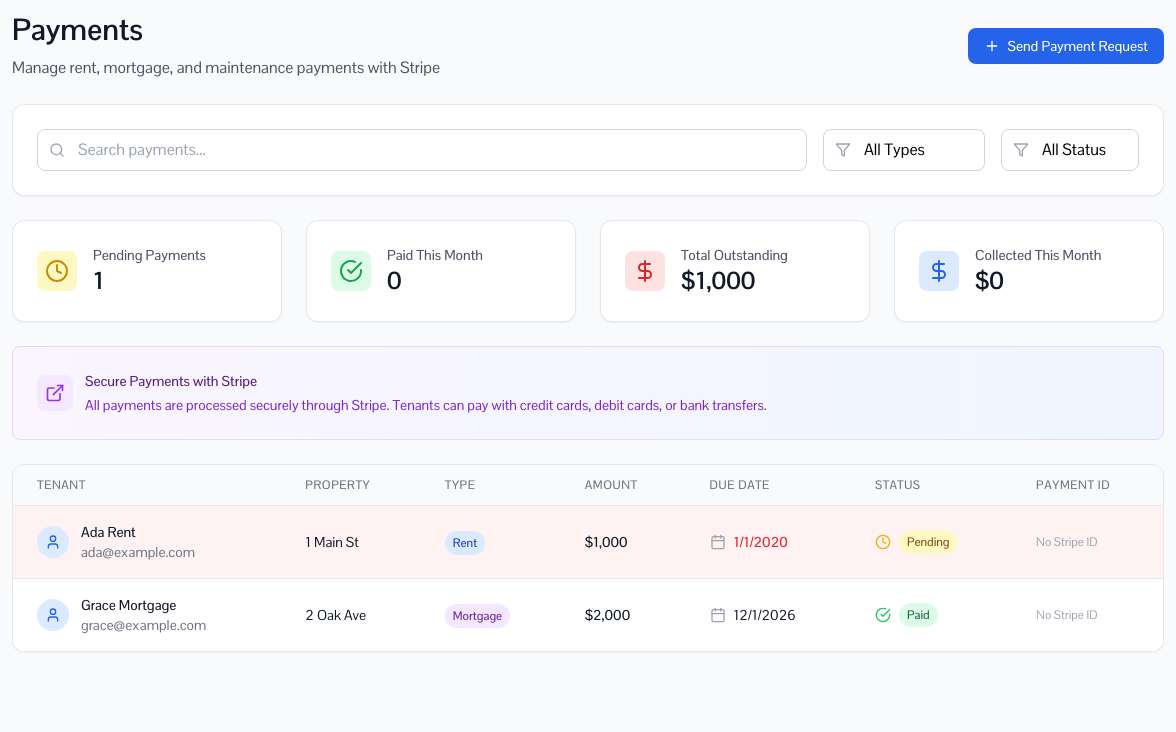
Test: live dropdowns › filters payments immediately, including the derived overdue status
Later steps or results of the test are not shown.
Expected: the text "Ada Rent" is shown, [81,523,136,541]
Expected: the text "Grace Mortgage" is shown, [81,596,176,614]
Select "Mortgage" in the dropdown named "Filter payments by type": (904, 150) [823,129,985,171]
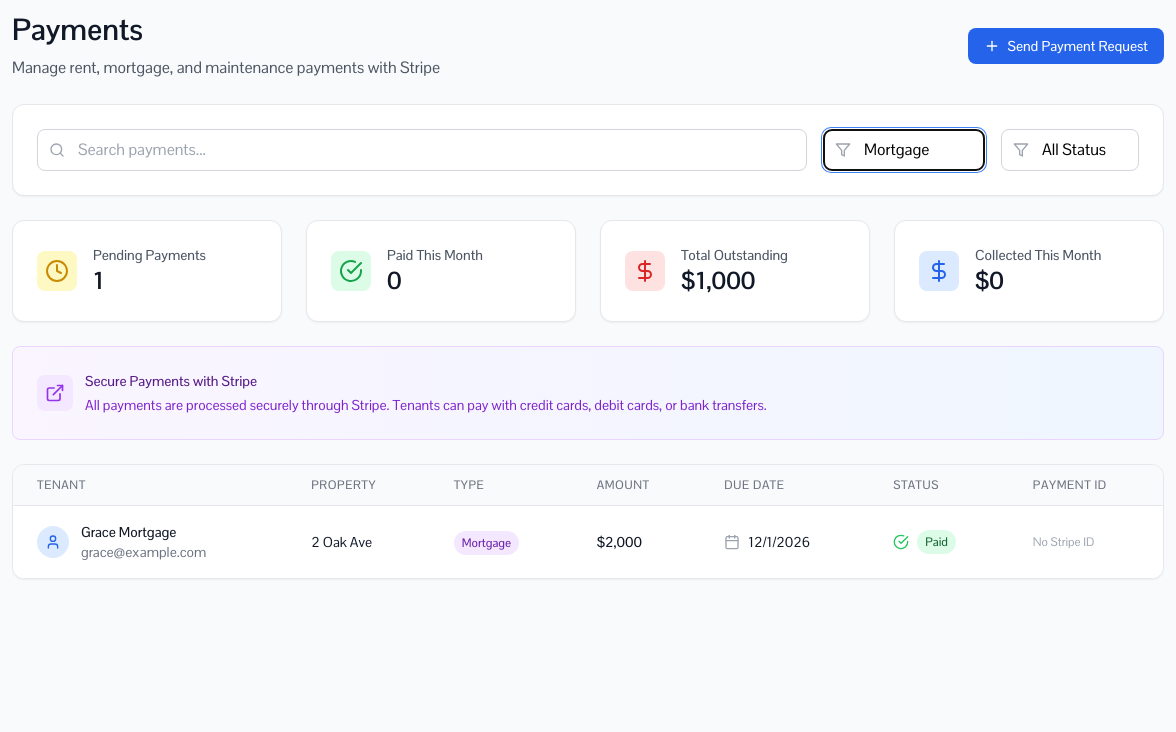
Expected: the text "Grace Mortgage" is shown, [81,523,176,541]
Expected: the text "Ada Rent" is gone
Select "All Types" in the dropdown named "Filter payments by type": (904, 150) [823,129,985,171]
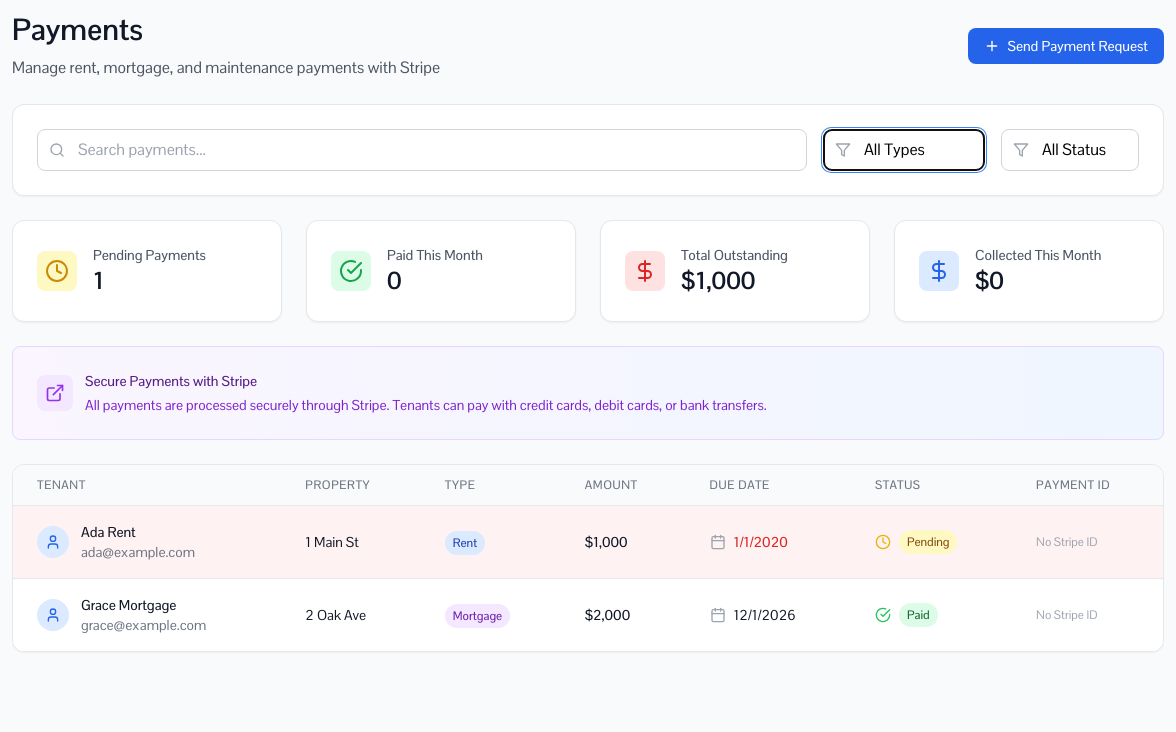
Select "Overdue" in the dropdown named "Filter payments by status": (1070, 150) [1001,129,1139,171]
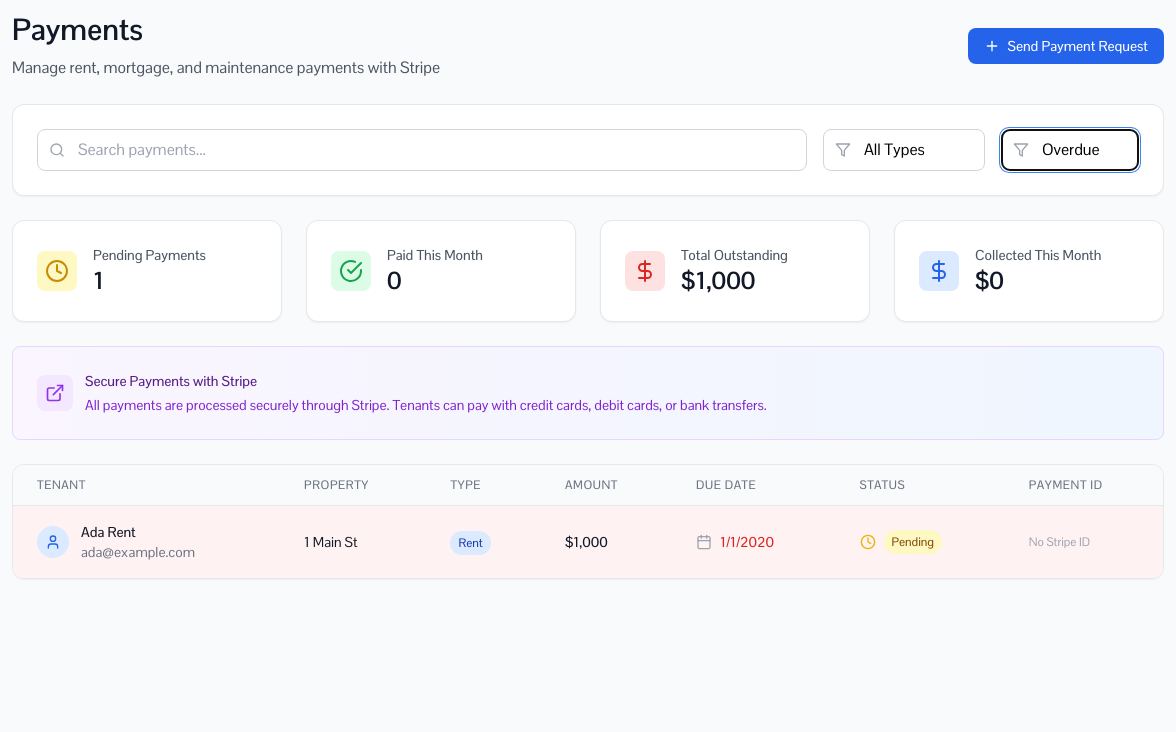
Expected: the text "Ada Rent" is shown, [81,523,136,541]
Expected: the text "Grace Mortgage" is gone
Select "Paid" in the dropdown named "Filter payments by status": (1070, 150) [1001,129,1139,171]
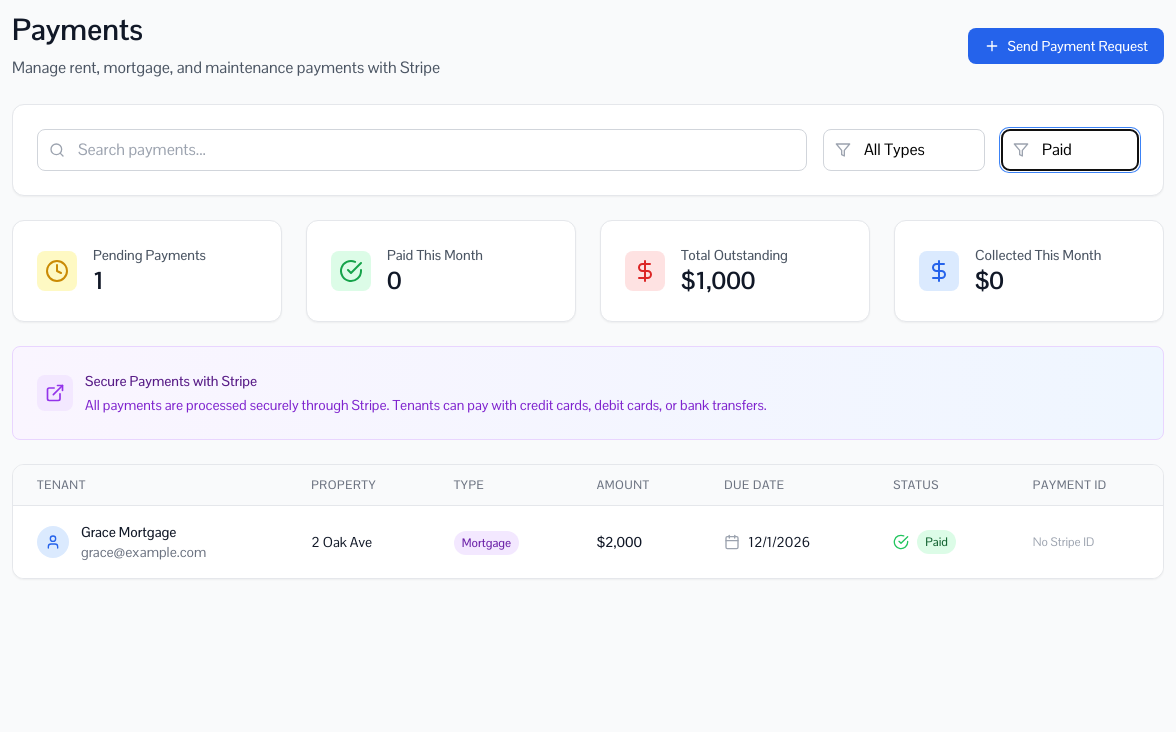
Expected: the text "Ada Rent" is gone
Expected: the text "Grace Mortgage" is shown, [81,523,176,541]
